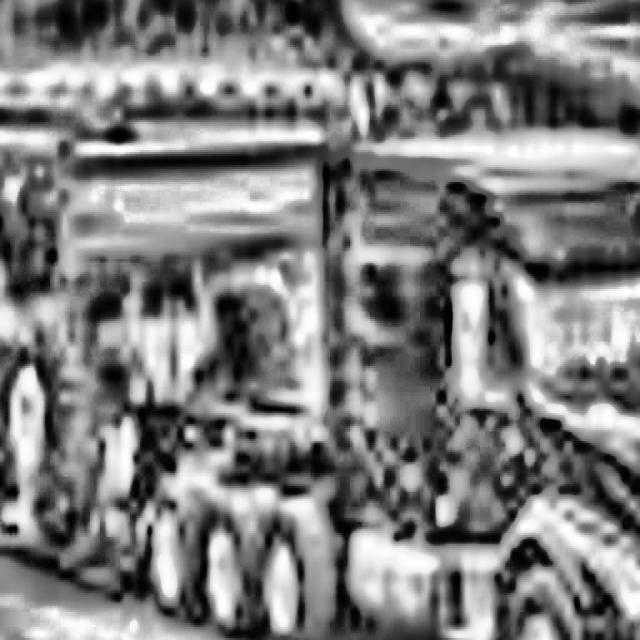dump_truck: (0, 34, 320, 546)
